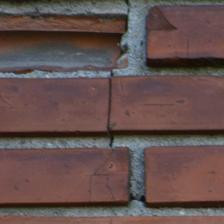Crack: (52, 3, 81, 152)
